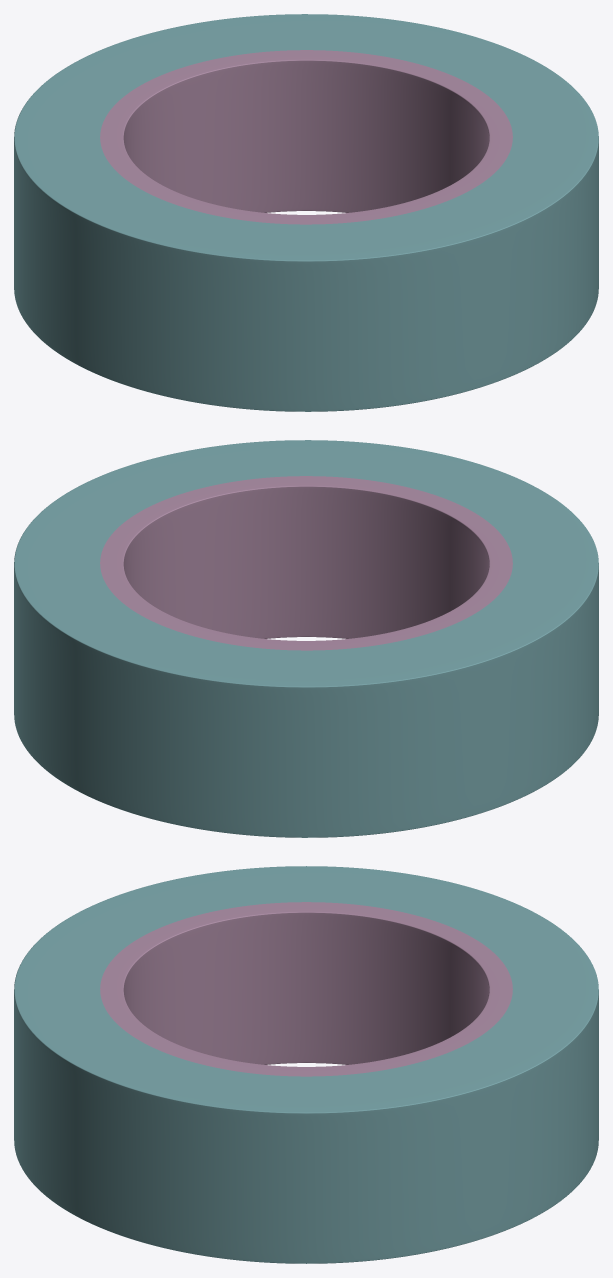
Rendered from HP_StickyTape_01.fbx.
The picture shows the model from 3 angles, top to bottom: view 1: azimuth 30°, elevation 25°; view 2: azimuth 150°, elevation 25°; view 3: azimuth 270°, elevation 25°; orthographic projection.
Visible parts, largest first — view 1: pCylinder1; view 2: pCylinder1; view 3: pCylinder1.
Part boxes in pixels (x1=…): pCylinder1: x1=14, y1=14, x2=598, y2=411; pCylinder1: x1=14, y1=440, x2=598, y2=837; pCylinder1: x1=14, y1=866, x2=598, y2=1263.
Size of the model in its own units: 19.68 by 5.62 by 19.68.
